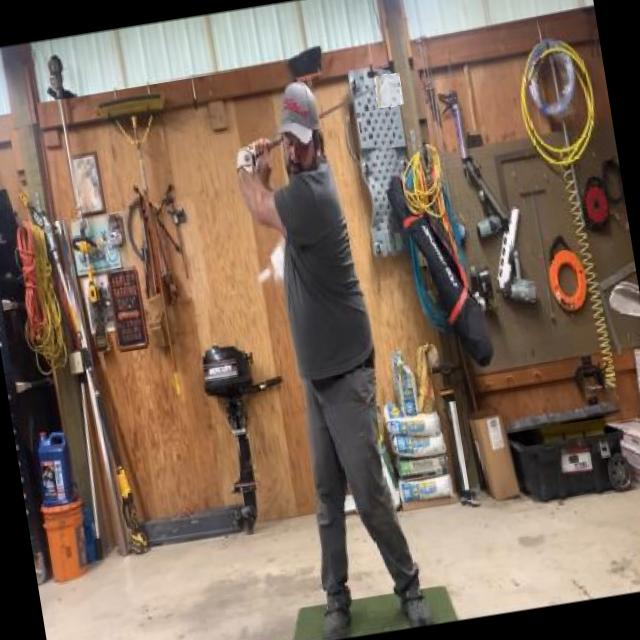club head: (374, 73, 404, 109)
